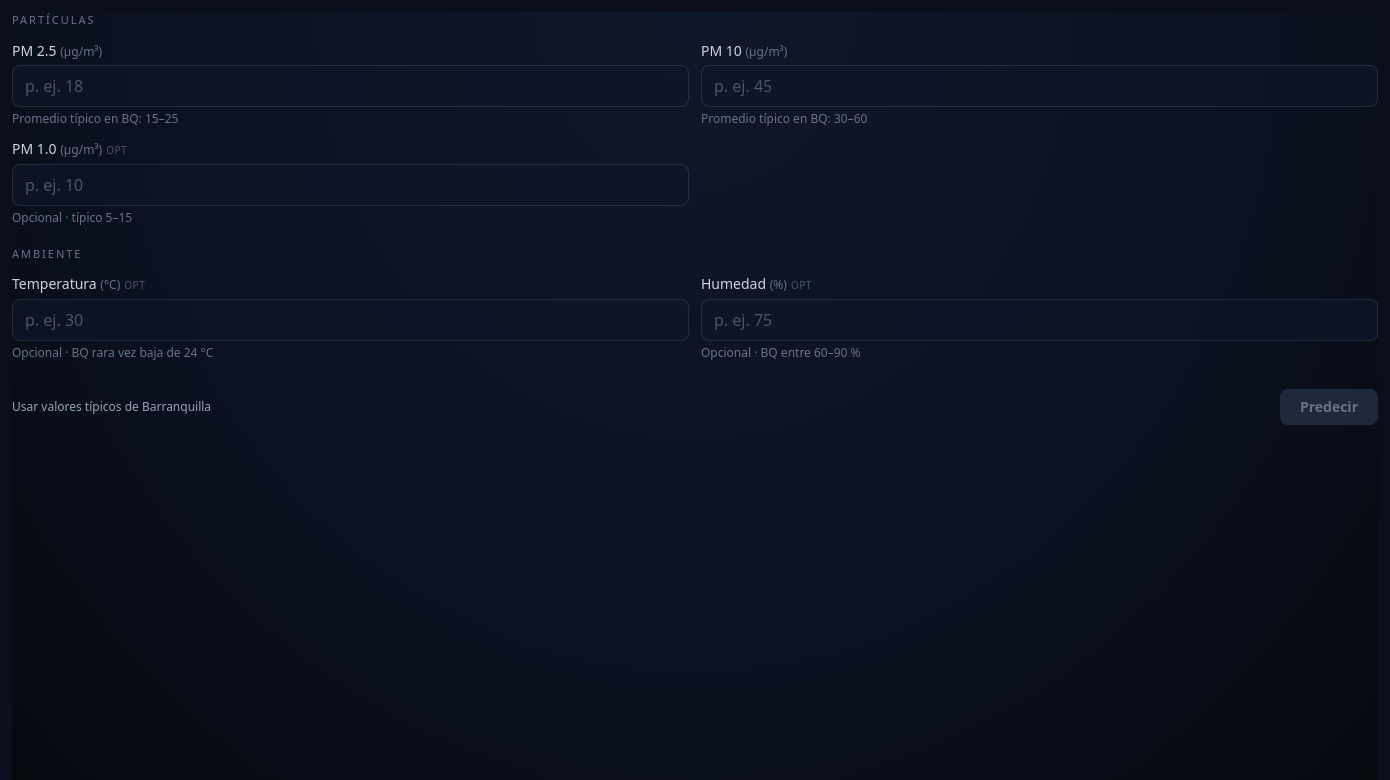
it: ManualInputForm › shows inline error for out-of-range value
The image size is (1390, 780).
Step 1. Type "150" into the number field labelled "Humedad (%)opt" → [1040, 320], box [701, 299, 1378, 341]
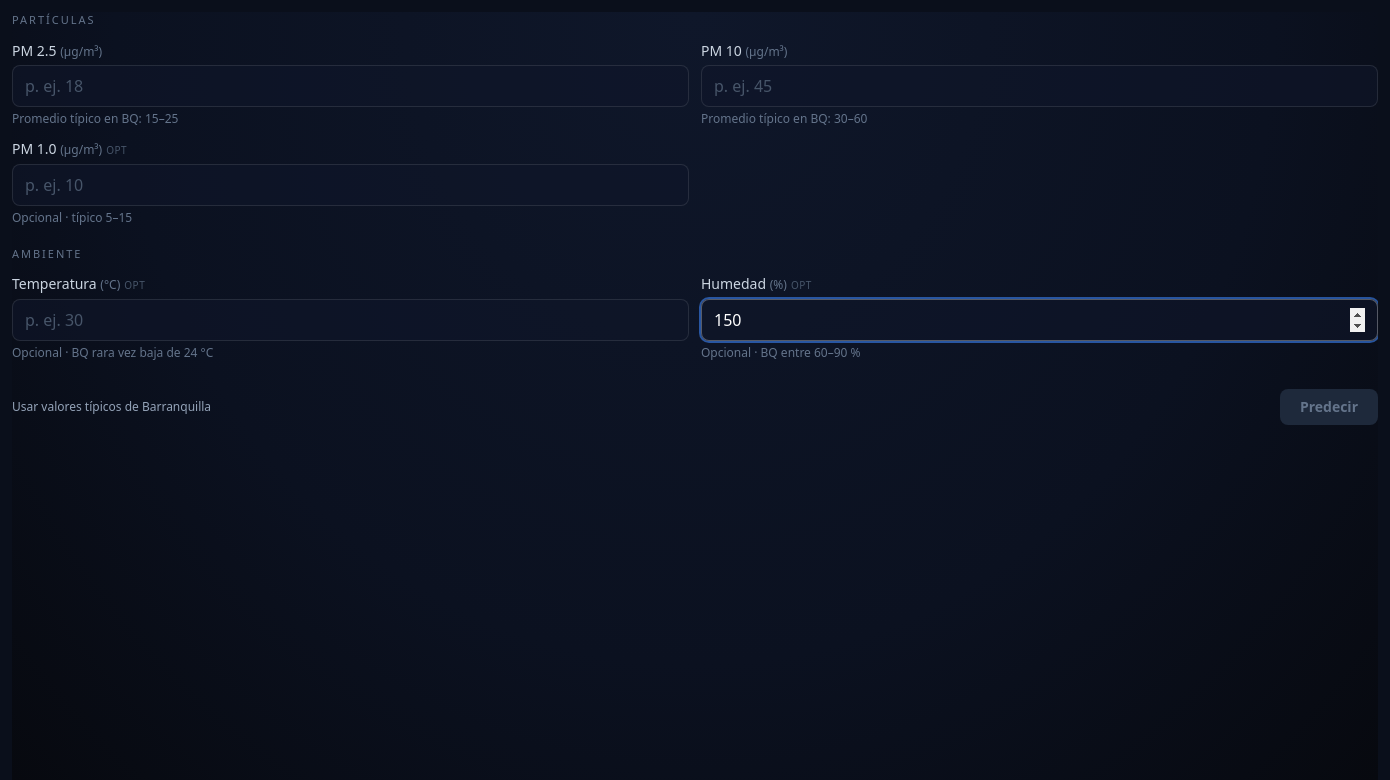
Step 2. Press Tab
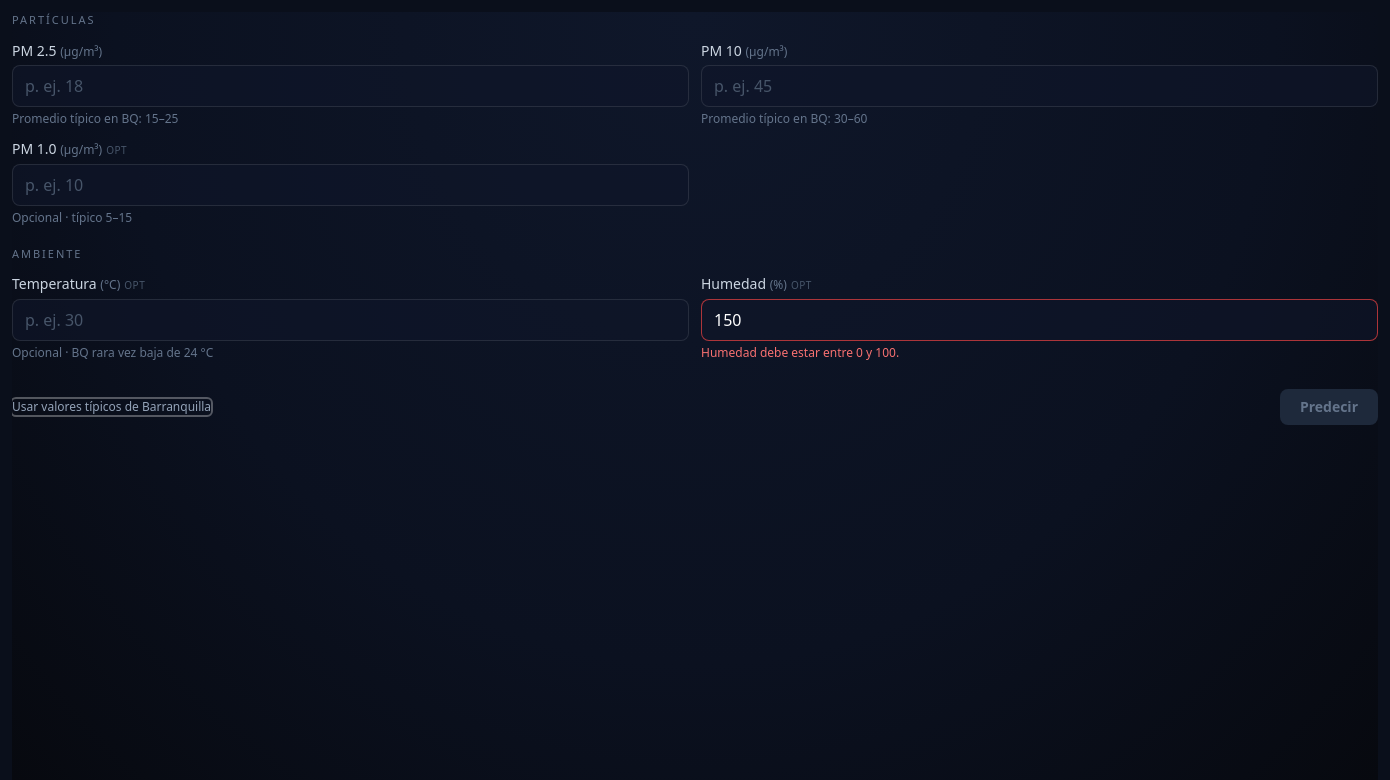
expect the text "Humedad debe estar entre 0 y 100." is shown: met, box [701, 344, 899, 361]
